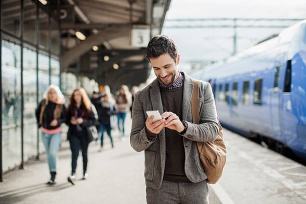male: (144, 35, 182, 86)
